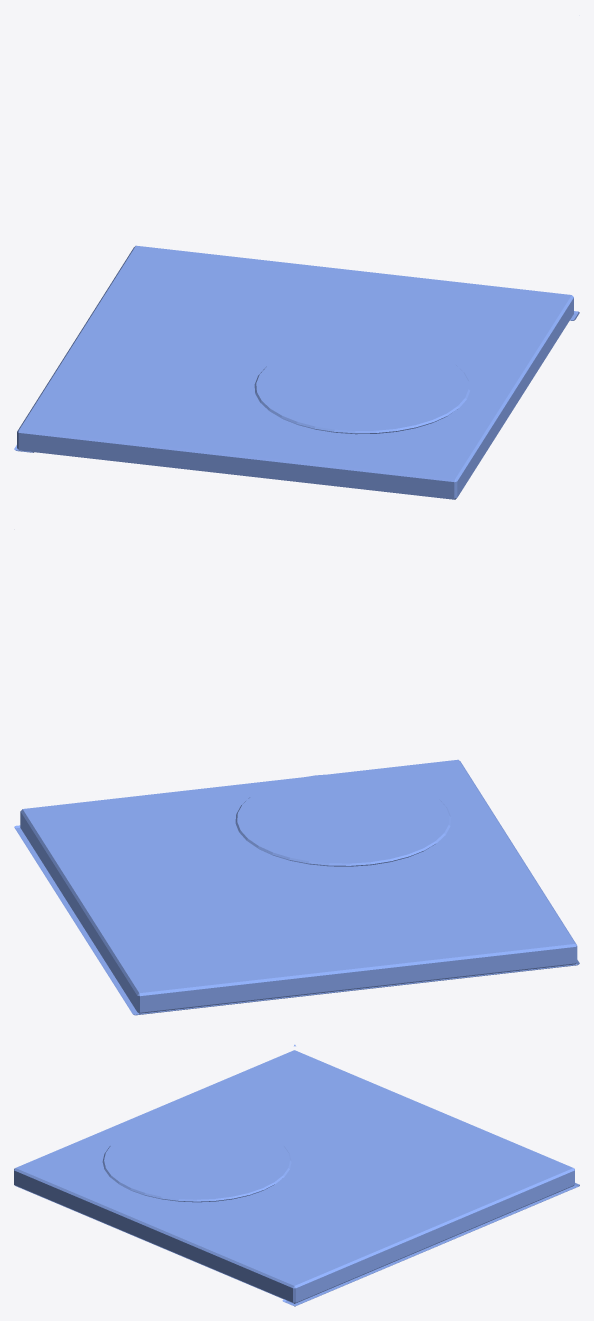
Rendered from newWall2.glb.
3 views of the same model, one above another, from view 1: azimuth 30°, elevation 25°; view 2: azimuth 150°, elevation 25°; view 3: azimuth 270°, elevation 25° (orthographic). The views are drawn at different scales.
Parts seen in each view (by area): view 1: newWall2; view 2: newWall2; view 3: newWall2.
Boxes of the visible parts, <box> form: newWall2: <box>14,245,579,499</box>; newWall2: <box>14,759,579,1015</box>; newWall2: <box>14,1044,579,1306</box>.
Bounding box in the file's own units: 4.26 × 2.16 × 4.23.
